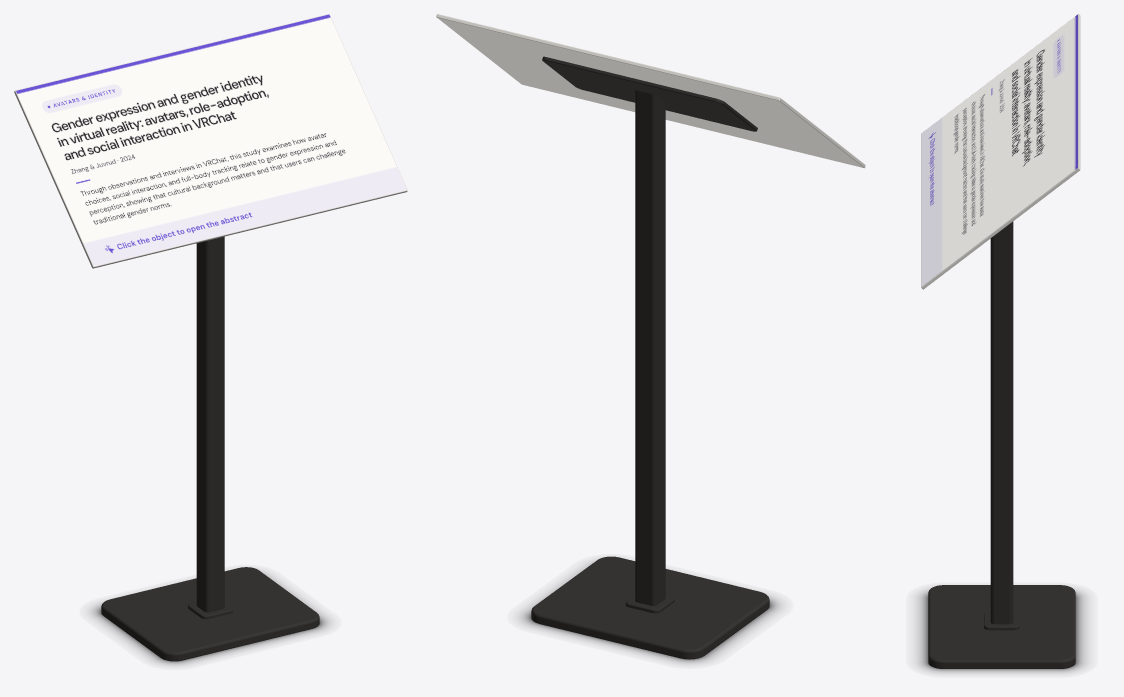
Rendered from plaque-zhang-2024-stand.glb.
The picture shows the model from 3 angles, left to right: view 1: azimuth 30°, elevation 25°; view 2: azimuth 150°, elevation 25°; view 3: azimuth 270°, elevation 25°; orthographic projection. The views are drawn at different scales.
Parts seen in each view (by area): view 1: board, stand; view 2: stand, board; view 3: board, stand.
Part boxes in pixels (x1=…): board: x1=14, y1=14, x2=407, y2=268; stand: x1=91, y1=236, x2=329, y2=664; stand: x1=520, y1=56, x2=779, y2=663; board: x1=436, y1=14, x2=865, y2=168; board: x1=921, y1=14, x2=1080, y2=289; stand: x1=918, y1=221, x2=1085, y2=672.
Bounding box in the file's own units: 0.643 × 1.05 × 0.38.
4 materials, 2 textured.
